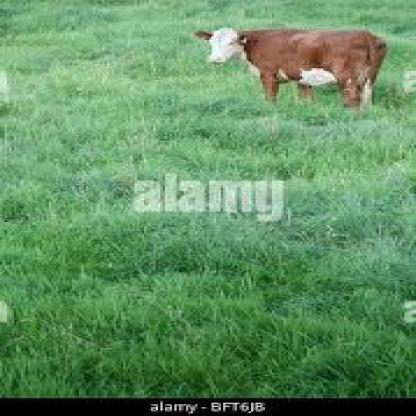cow: (192, 27, 389, 109)
